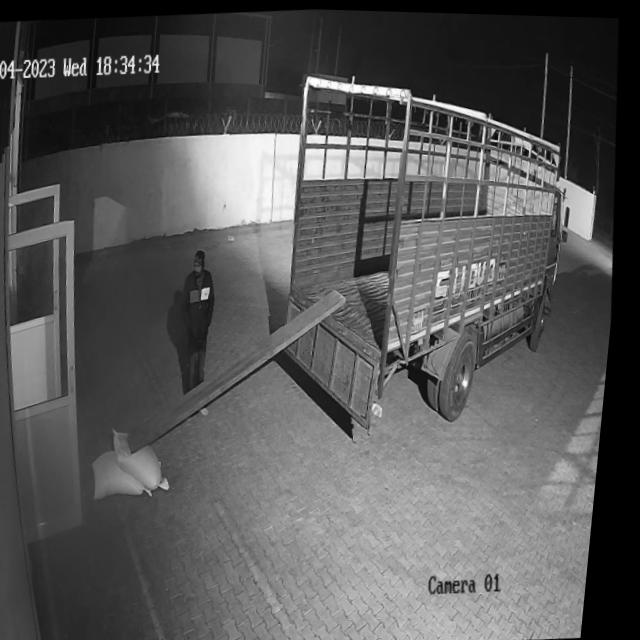sack: (115, 421, 184, 492), (97, 445, 166, 501)
